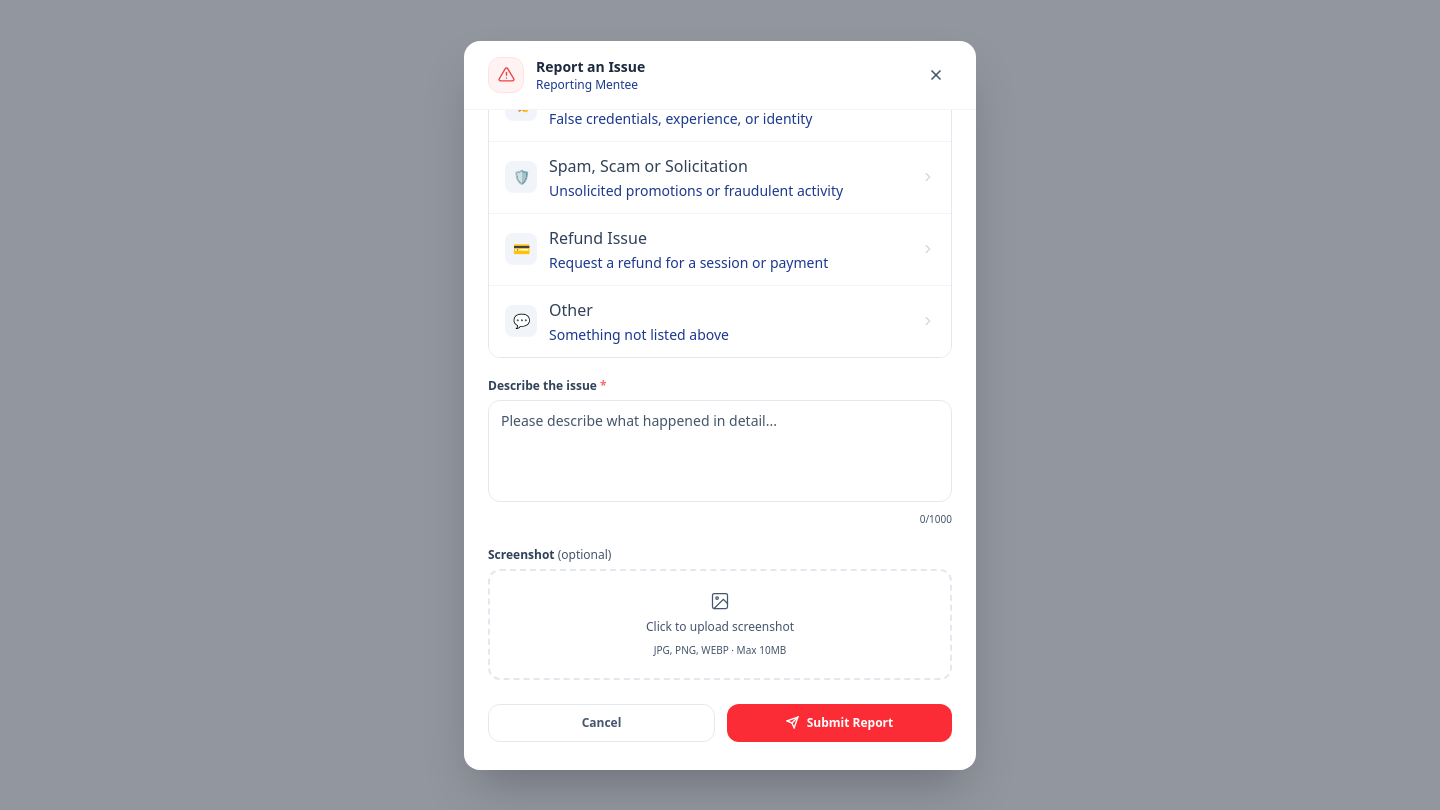
Test case: ReportModal › should update the description textarea and character counter
The image size is (1440, 810).
(page scrolled)
Type "Something happened" into the text box with placeholder "Please describe what happened in detail...". click: (720, 450)
box: [488,400,952,502]
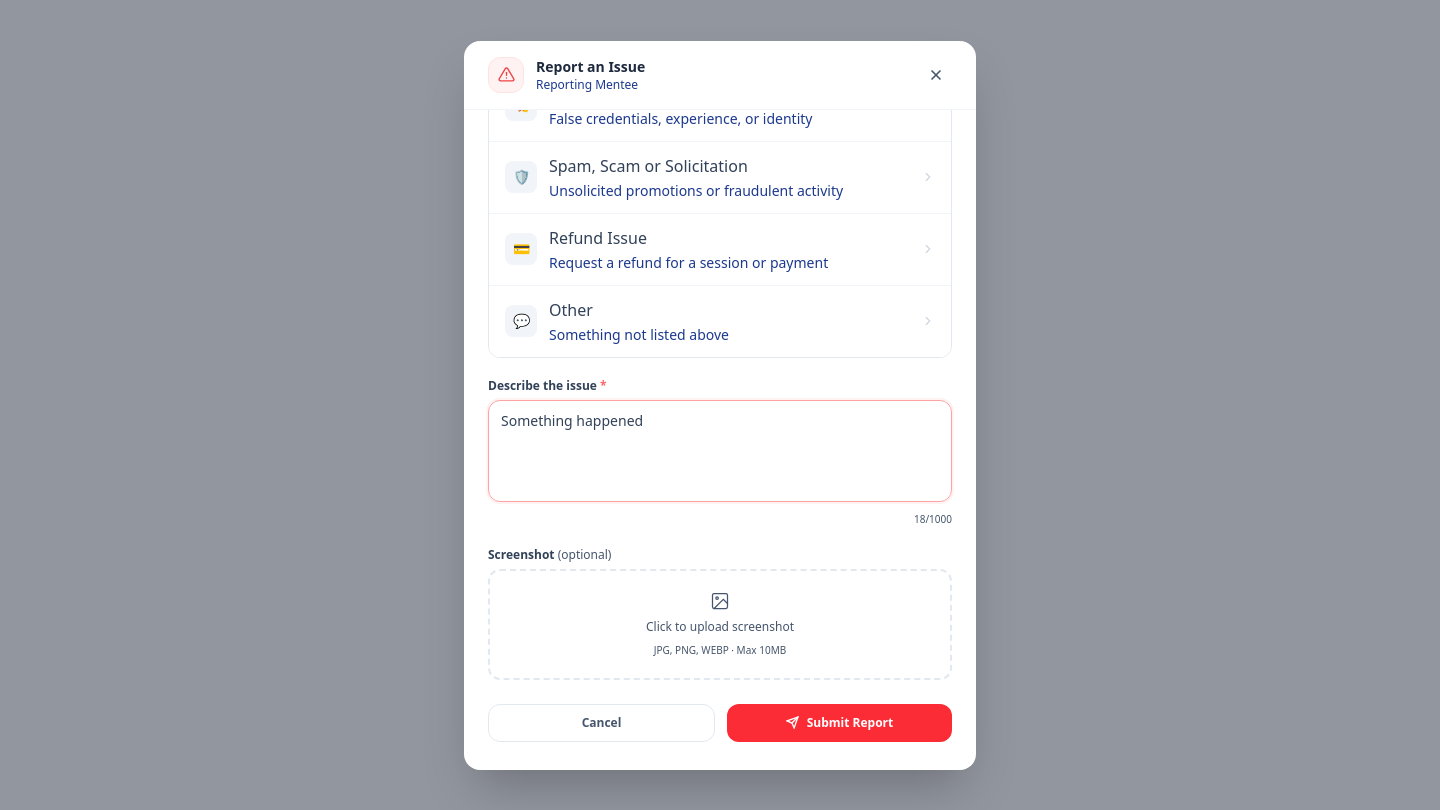
expect the text "18/1000" is shown: met, box [914,512,952,526]
